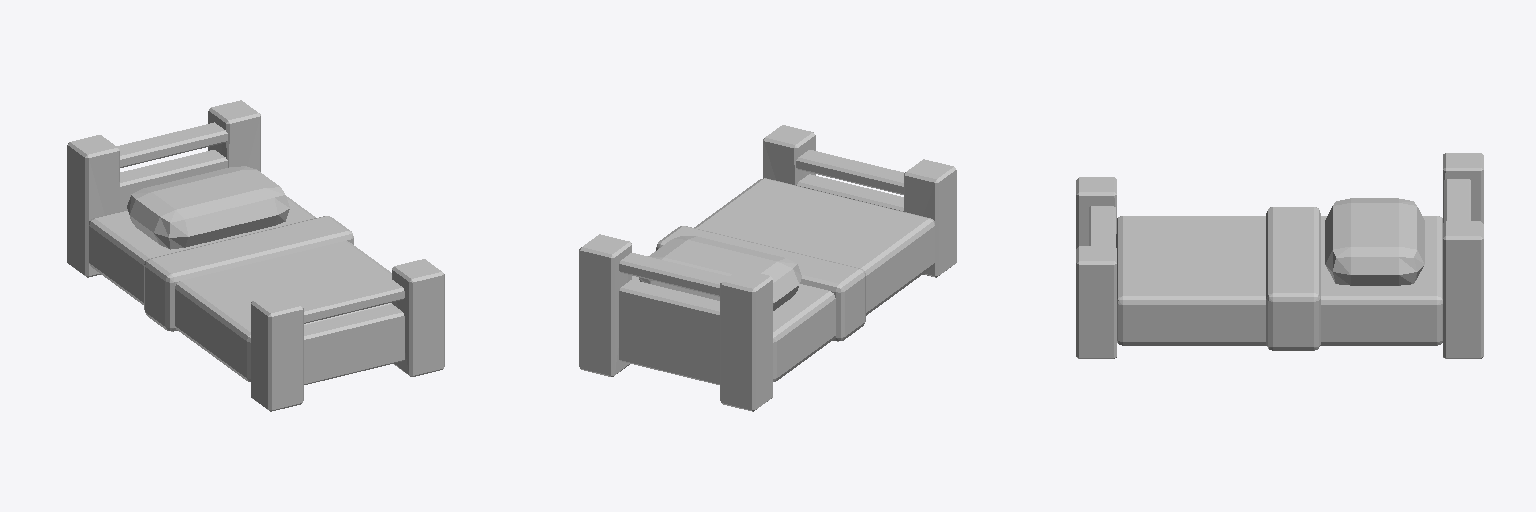
File: bed_single_B.obj
3 views of the same model, side by side, from view 1: azimuth 30°, elevation 25°; view 2: azimuth 150°, elevation 25°; view 3: azimuth 270°, elevation 25° (orthographic).
Parts seen in each view (by area): view 1: bed_single_B_Cube.038; view 2: bed_single_B_Cube.038; view 3: bed_single_B_Cube.038.
Boxes of the visible parts, box(x1,y1,x2,y2) form: bed_single_B_Cube.038: box(67, 100, 444, 411); bed_single_B_Cube.038: box(579, 125, 956, 411); bed_single_B_Cube.038: box(1076, 153, 1483, 358).
Size of the model in its own units: 1.6 by 1 by 3.